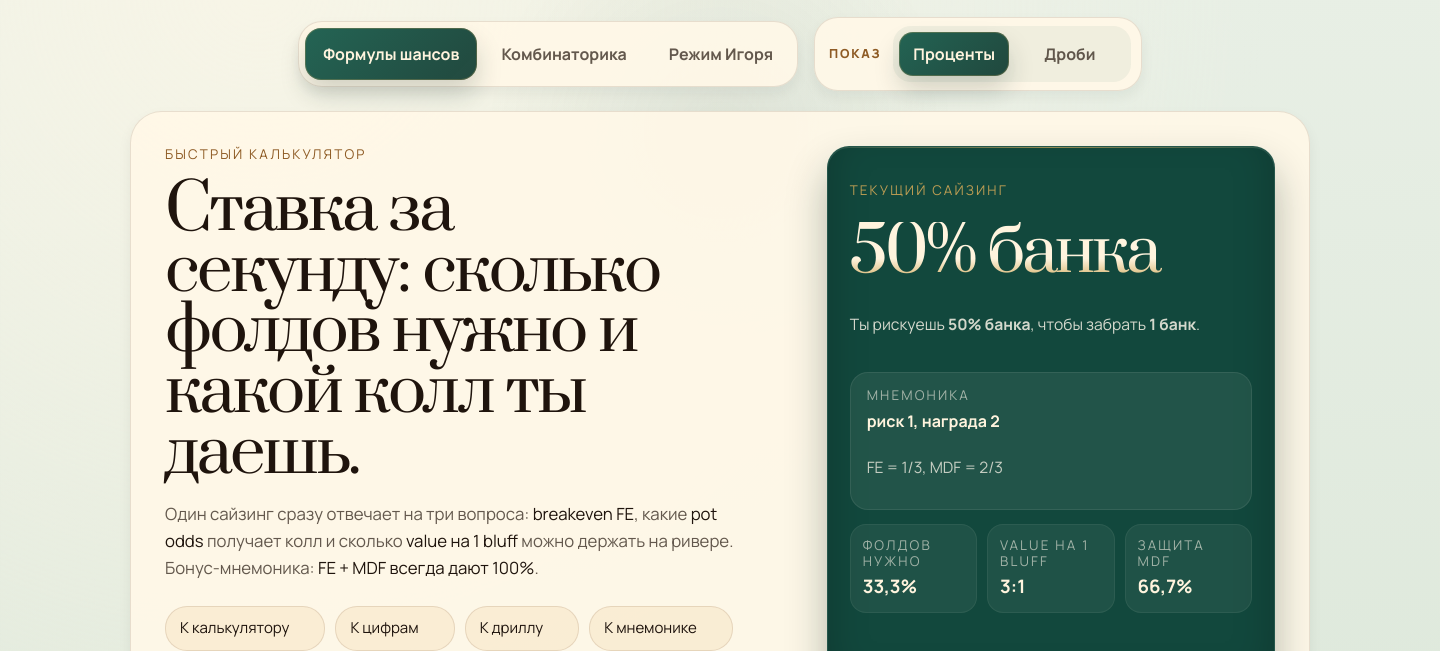
Test: App › applies the global display toggle across all modes
The image size is (1440, 651).
Click the button "Дроби": (1070, 54) [1015,32,1125,76]
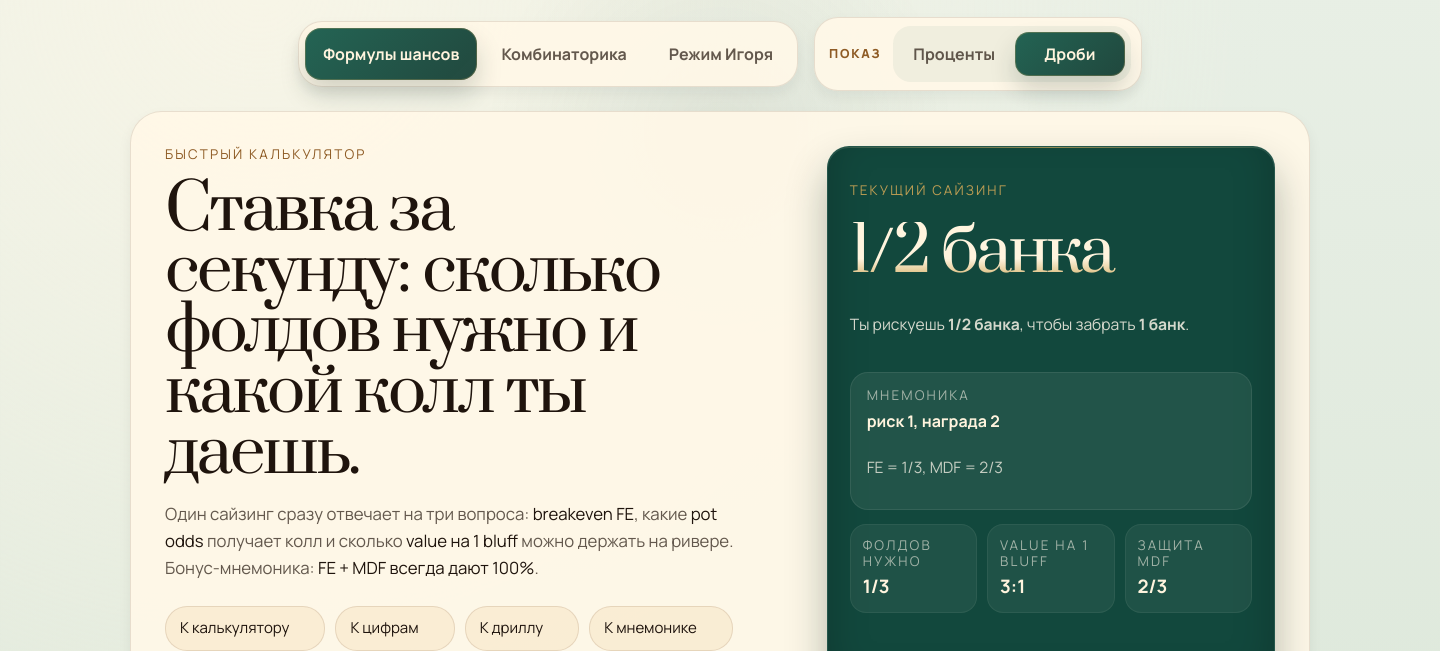
expect the 1st text "1/2 банка" is shown: met, box [850,222,1252,283]
Click the tab "Комбинаторика": (564, 54) [483,28,645,80]
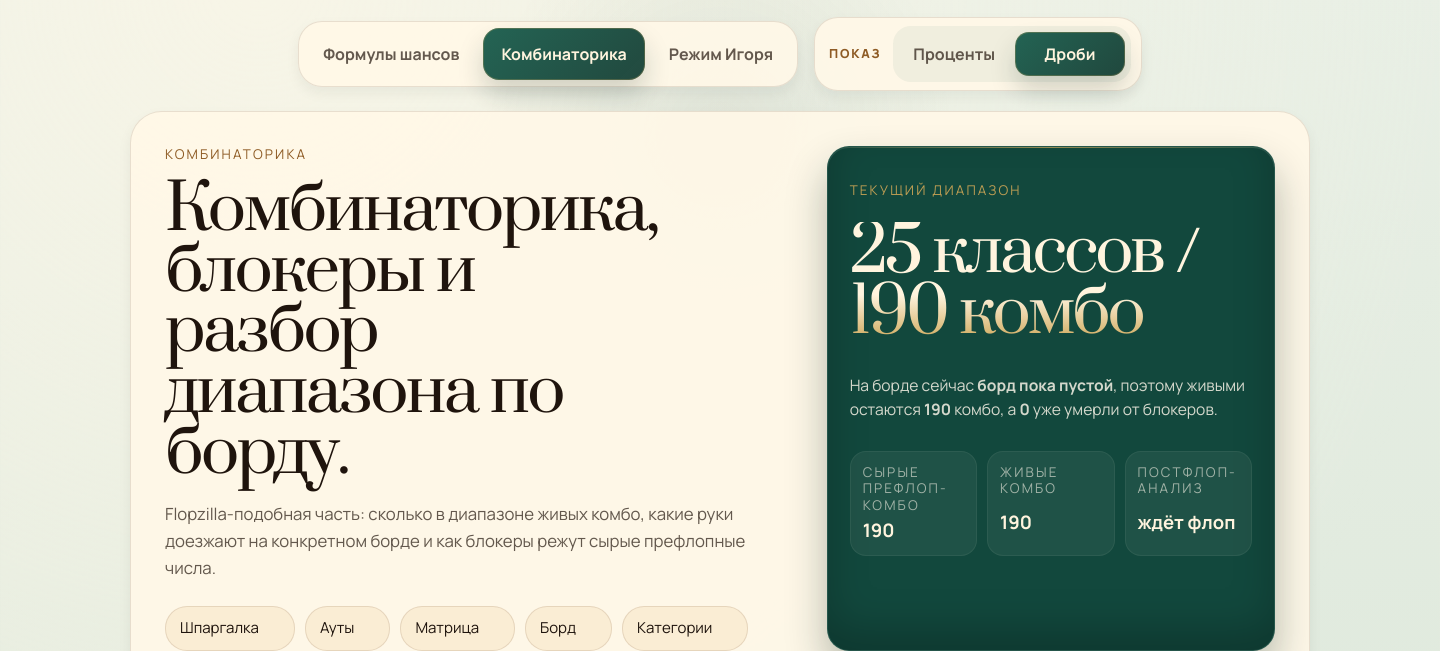
expect the text "Текущий диапазон" is shown: met, box [850,181,1022,199]
Click the tab "Режим Игоря": (721, 54) [651,28,791,80]
(page scrolled)
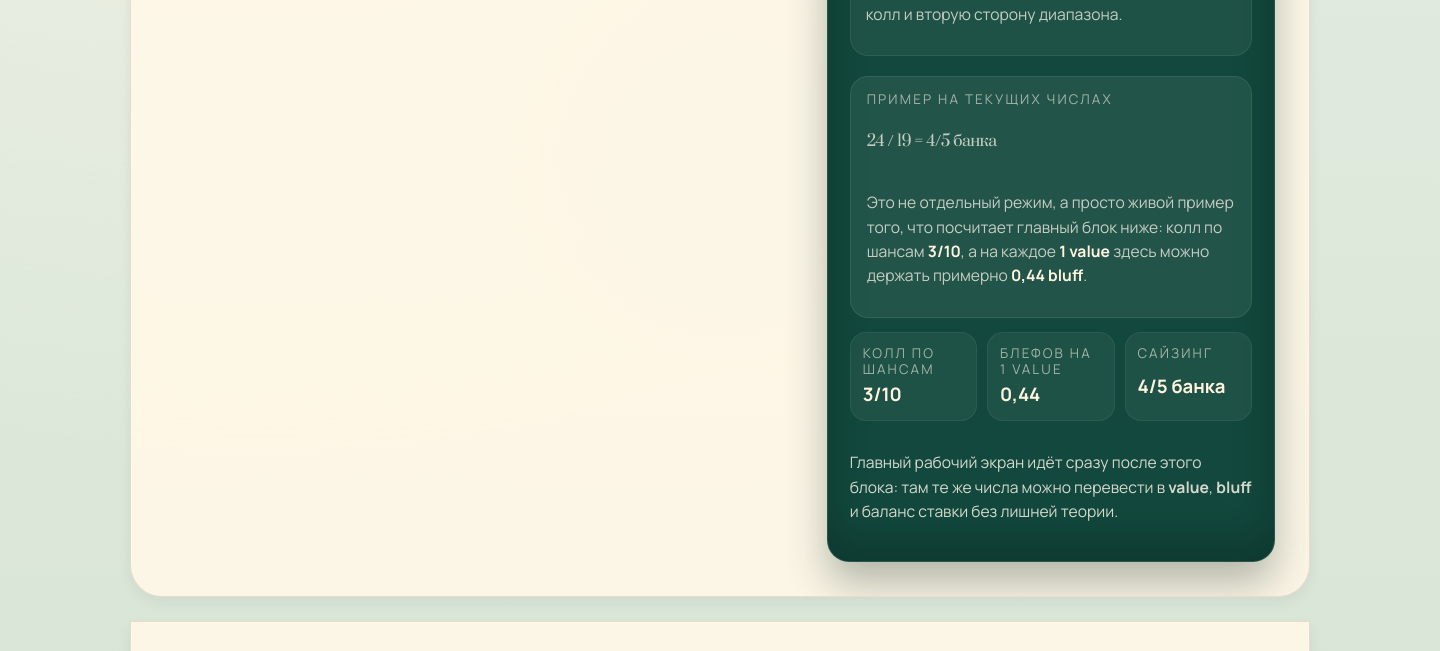
expect the text "4/5 банка" is shown: met, box [1138,375,1239,406]
